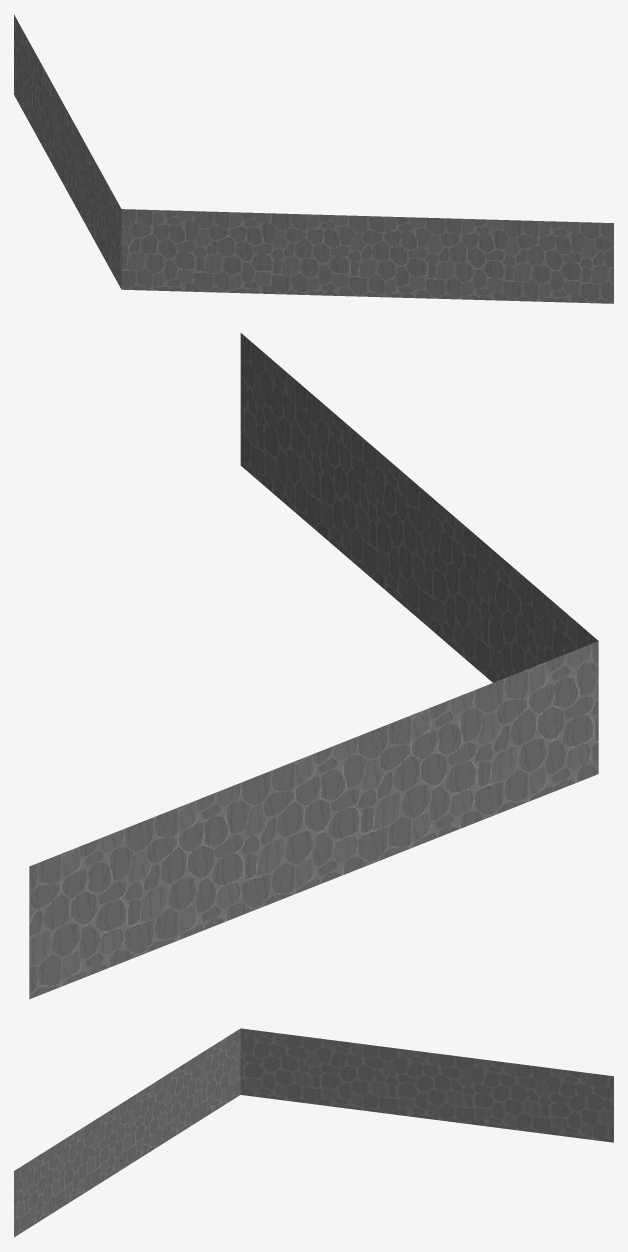
The model's file is kd_connection_town-ground_surface_3_46.glb.
The picture shows the model from 3 angles, top to bottom: view 1: azimuth 30°, elevation 25°; view 2: azimuth 150°, elevation 25°; view 3: azimuth 270°, elevation 25°; orthographic projection. The views are drawn at different scales.
Visible parts, largest first — view 1: kd_connection_town-ground_surface_3_46; view 2: kd_connection_town-ground_surface_3_46; view 3: kd_connection_town-ground_surface_3_46.
Part boxes in pixels (left/top/right/bottom): kd_connection_town-ground_surface_3_46: left=14, top=14, right=613, bottom=303; kd_connection_town-ground_surface_3_46: left=29, top=333, right=598, bottom=999; kd_connection_town-ground_surface_3_46: left=14, top=1028, right=613, bottom=1237.
Bounding box in the file's own units: 3.22 × 0.6999 × 5.72.
1 material, 1 textured.
